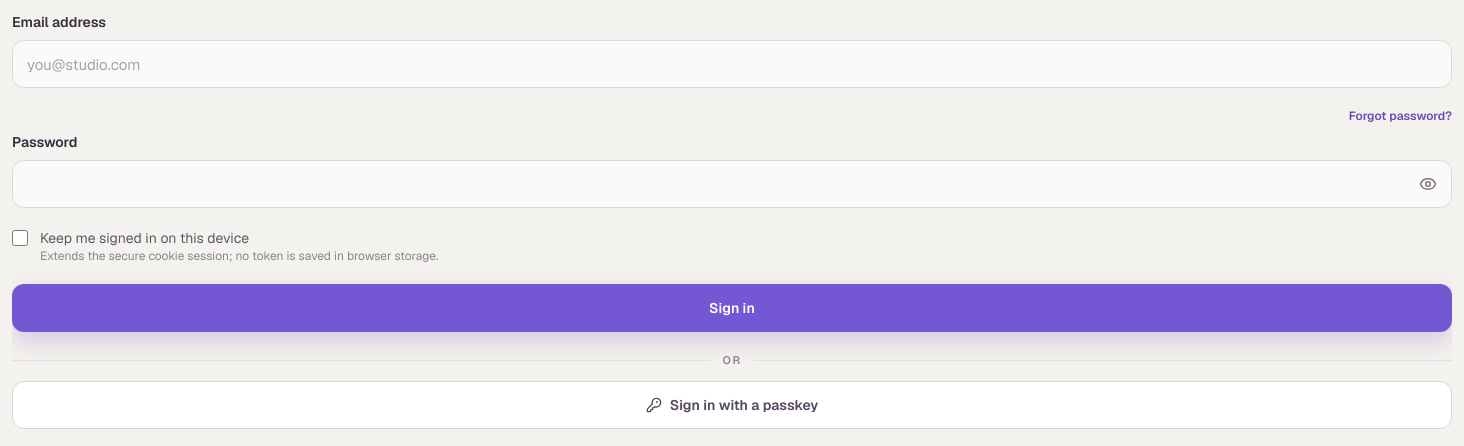
identity forms › supports password visibility and keyboard Caps Lock feedback
Click the button named "Show password" at (1428, 184), box top-left (1408, 164), bottom-right (1448, 204)
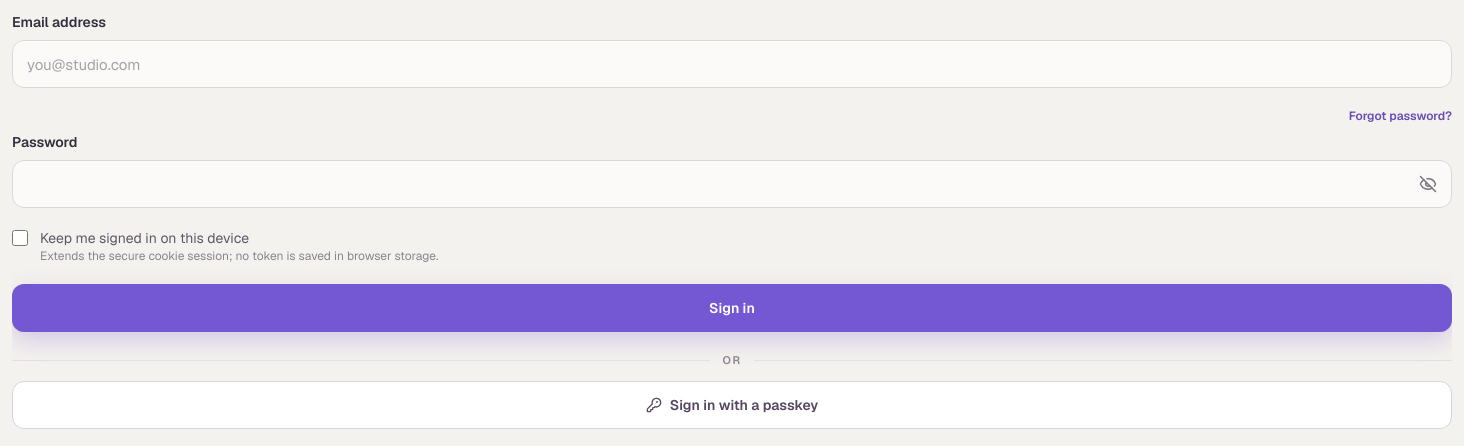
expect the button named "Hide password" is pressed: met, box top-left (1408, 164), bottom-right (1448, 204)
Press A in the field labelled "Password", box top-left (12, 160), bottom-right (1452, 208)
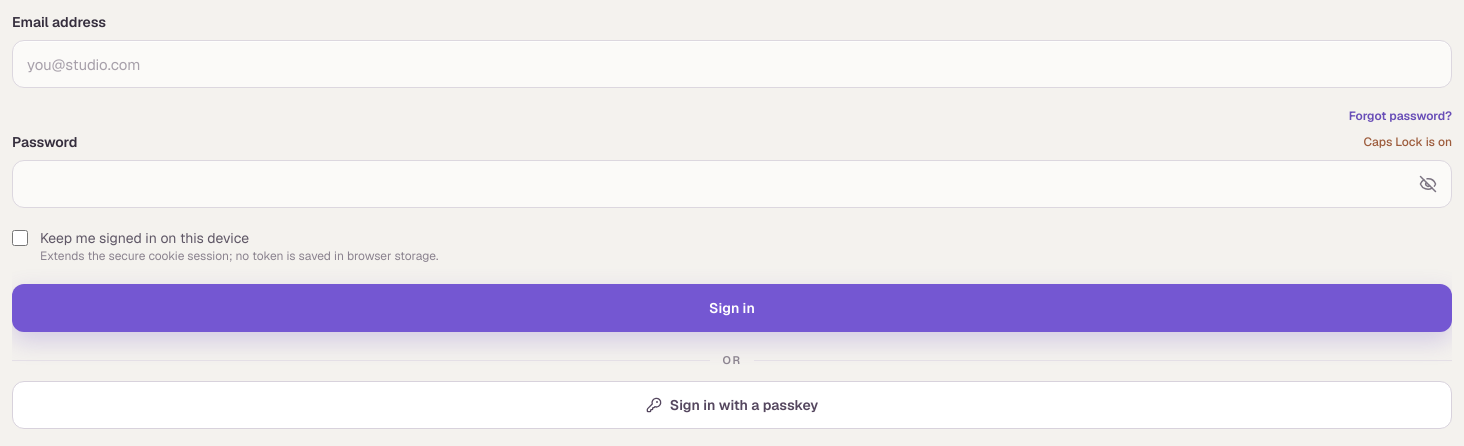
expect the text "Caps Lock is on" is shown: met, box top-left (1364, 134), bottom-right (1452, 150)
